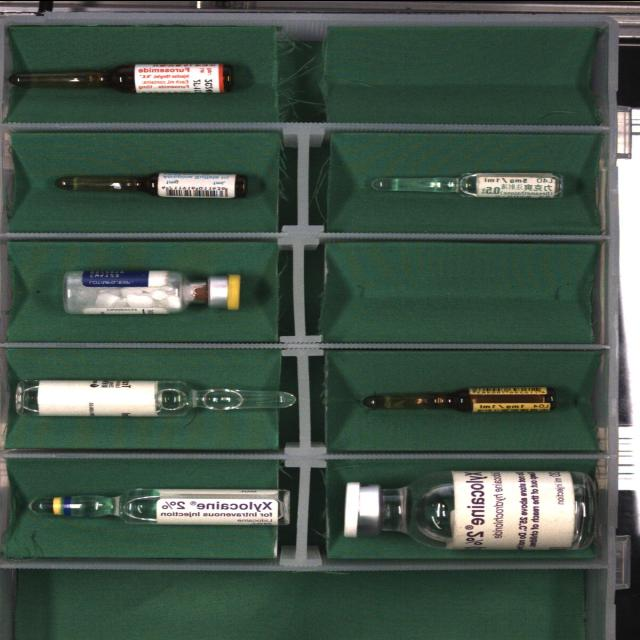Vials: (343, 470, 596, 549), (63, 270, 241, 313)
